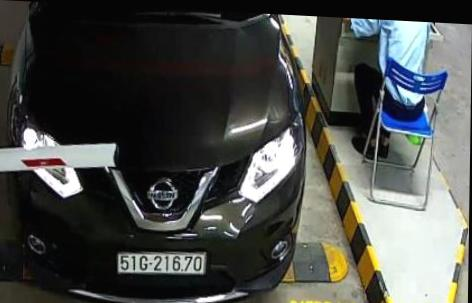License_Plate: (118, 246, 209, 278)
